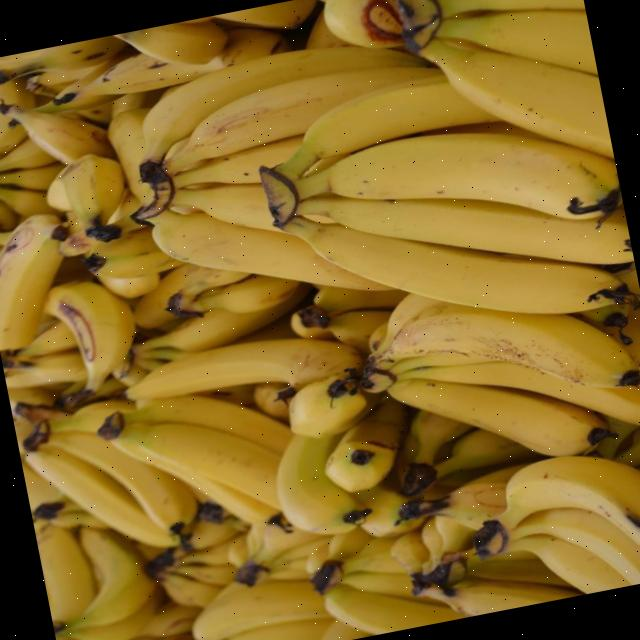banana: (304, 119, 621, 219), (319, 225, 636, 314), (377, 293, 640, 387), (130, 312, 382, 403), (507, 453, 640, 537)
